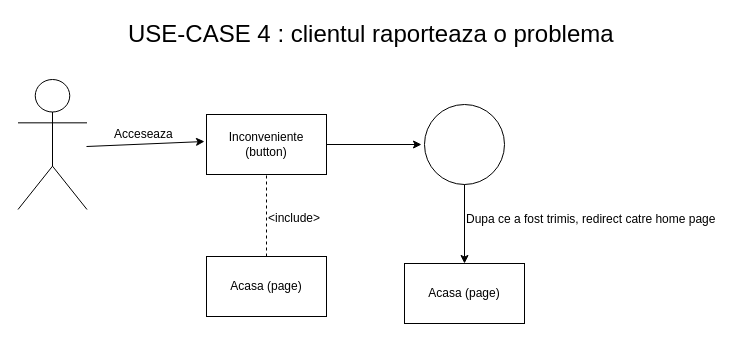
Some shapes in this 747 by 341 pixel diagram are drawn without their labels. Each missing label, with the box of its shape:
Afiseaza formular: (424, 104, 504, 184)
Client: (17, 78, 87, 210)
